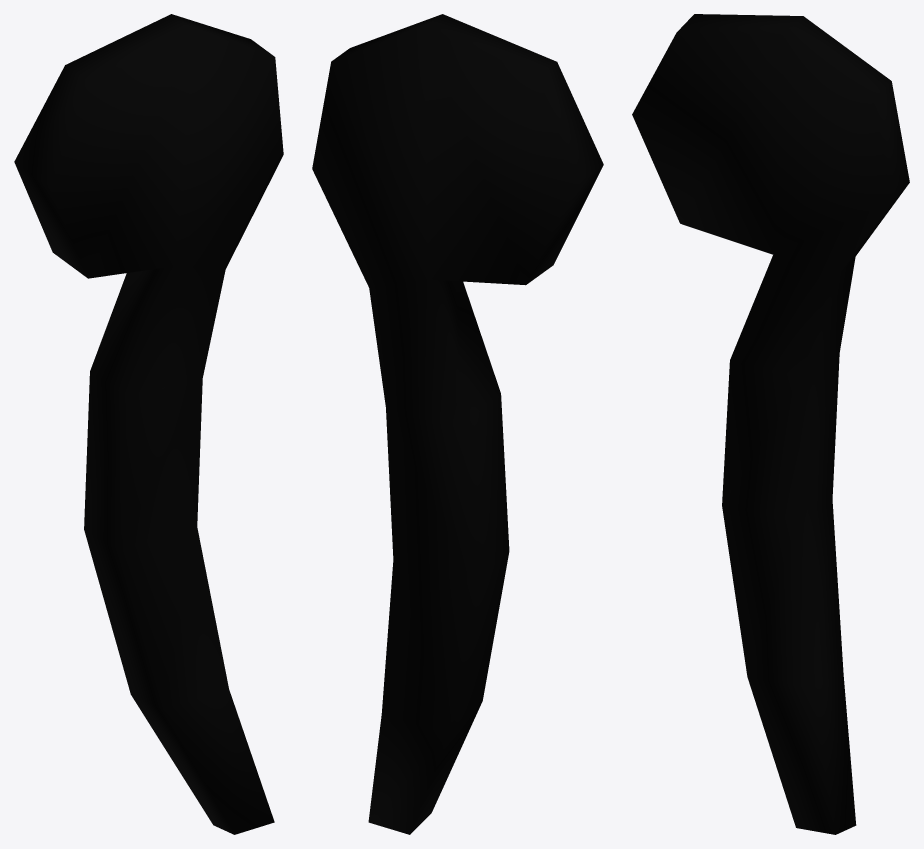
File: Swirly fungus.FBX
The picture shows the model from 3 angles, left to right: view 1: azimuth 30°, elevation 25°; view 2: azimuth 150°, elevation 25°; view 3: azimuth 330°, elevation 25°; orthographic projection. The views are drawn at different scales.
Parts seen in each view (by area): view 1: Swirly plant; view 2: Swirly plant; view 3: Swirly plant.
Boxes of the visible parts, <box> form: Swirly plant: <box>14,14,283,834</box>; Swirly plant: <box>312,14,603,834</box>; Swirly plant: <box>632,14,909,834</box>.
Size of the model in its own units: 33.82 by 102 by 13.28.
